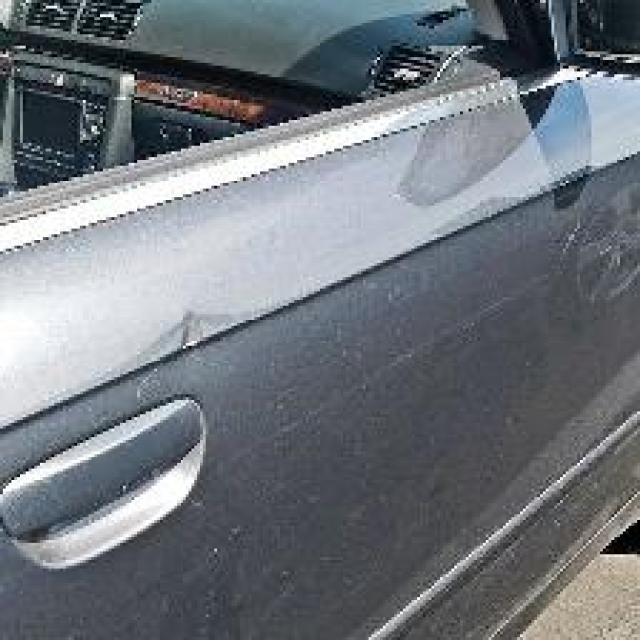door_dent_minor: (123, 311, 249, 369)
